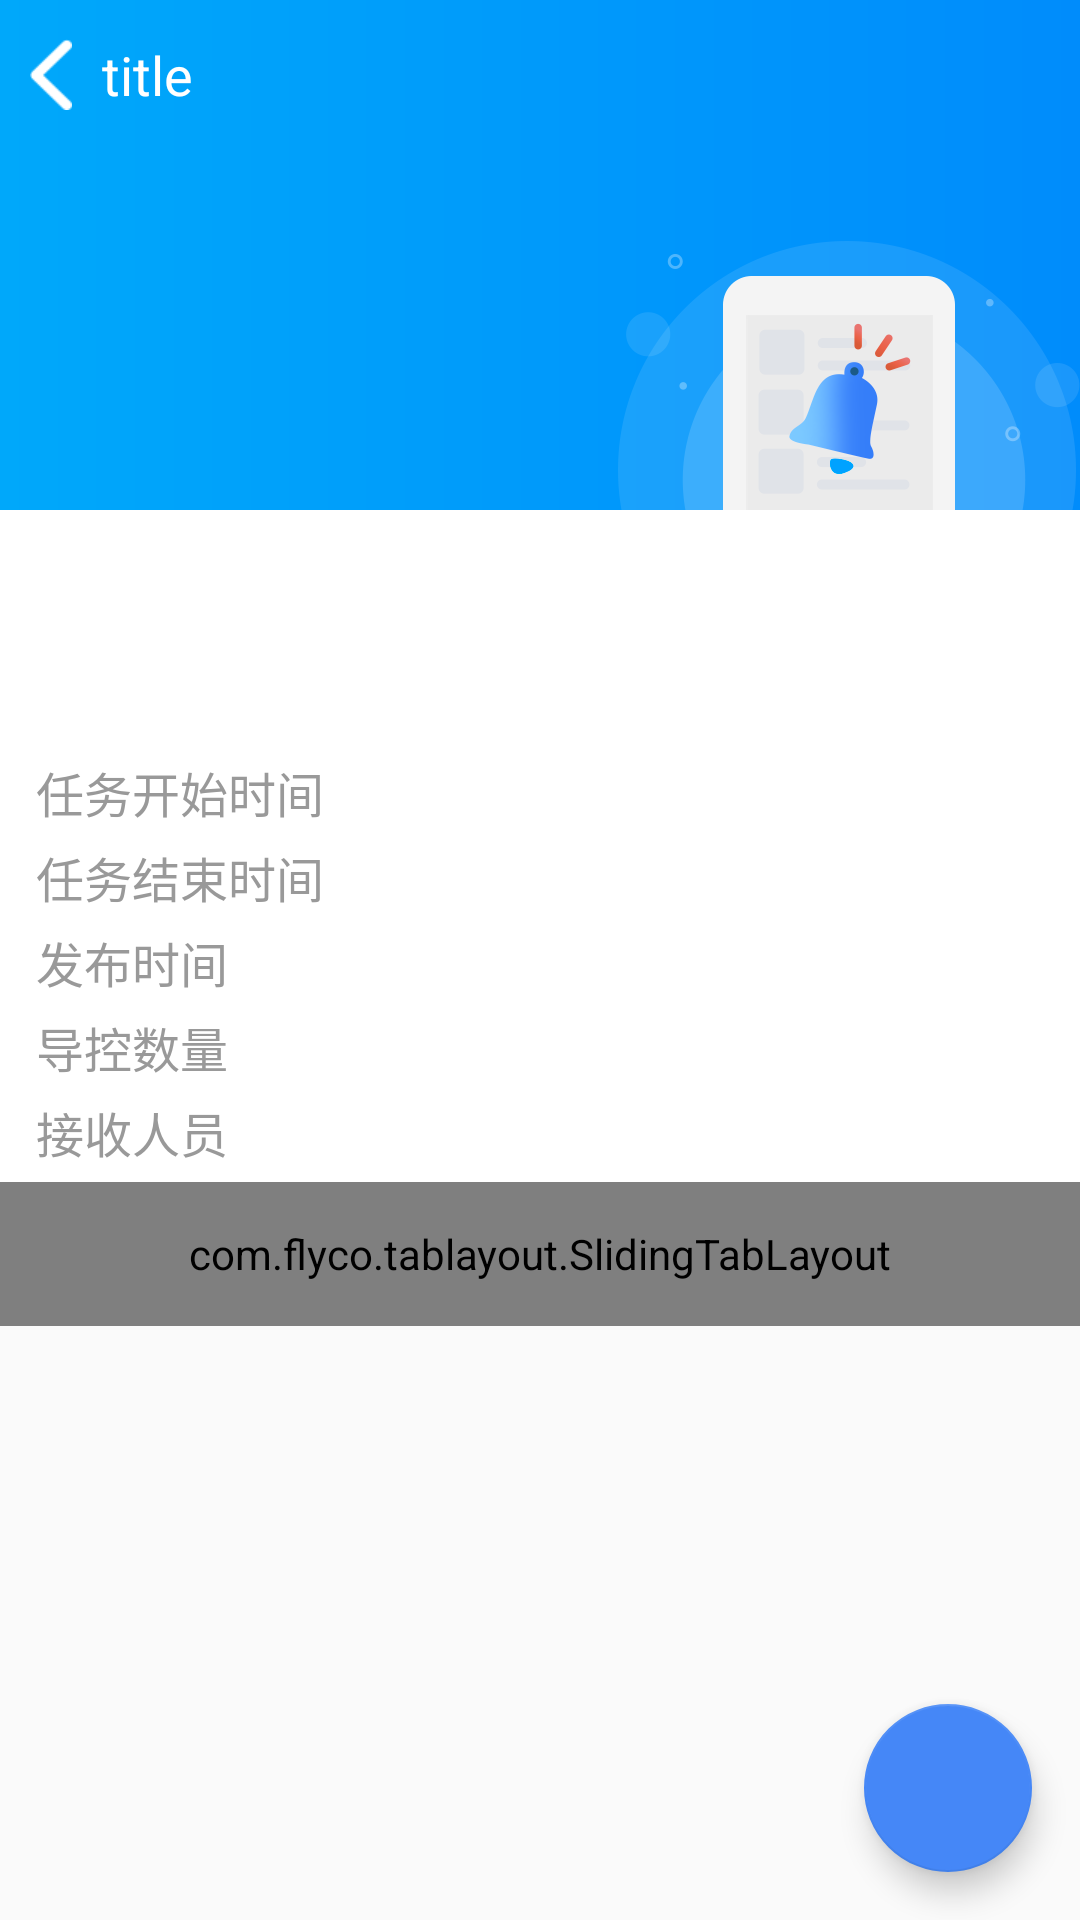

Screen size 1080×1920. Icon name, then its box in pixels as (x1, y1, x2, y2):
back: (30, 40, 72, 110)
